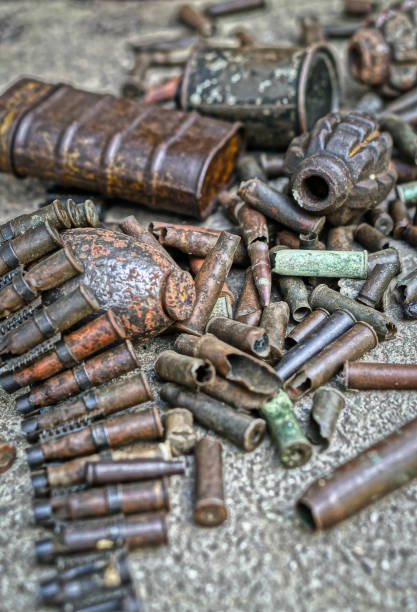e1: (285, 107, 399, 214)
